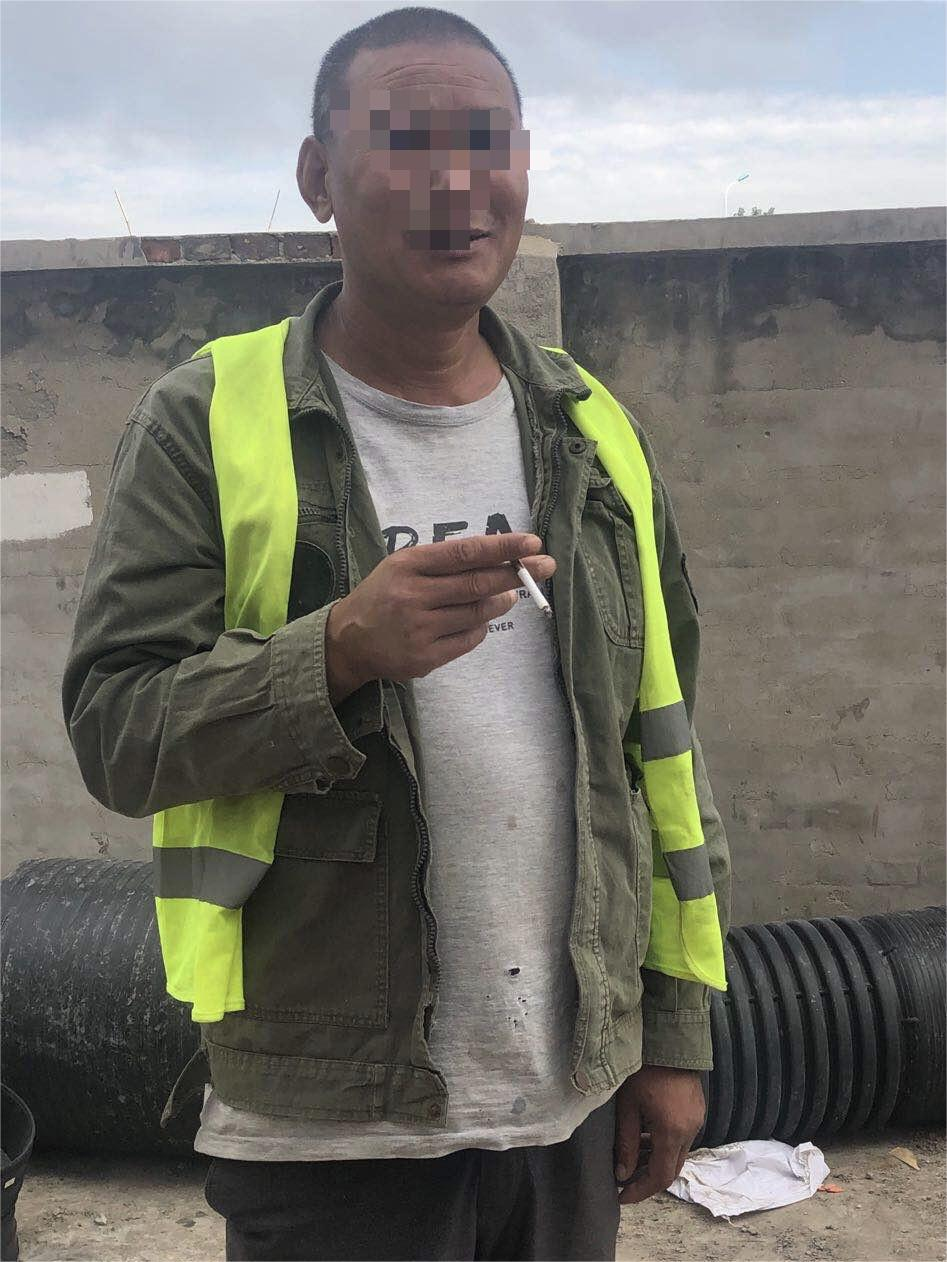smoke: (512, 556, 558, 618)
